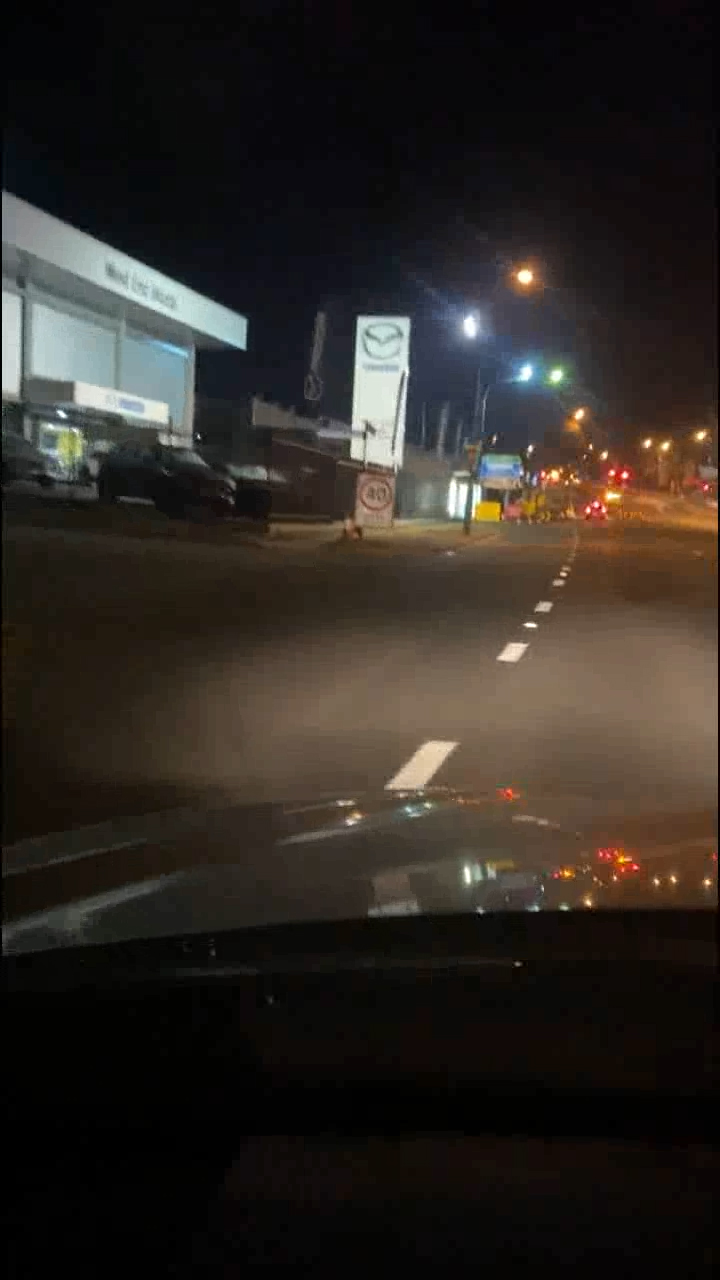car: (91, 442, 237, 513), (1, 423, 66, 494), (583, 502, 612, 527)
road works sign board: (479, 502, 497, 519)
speed board: (358, 471, 389, 525)
